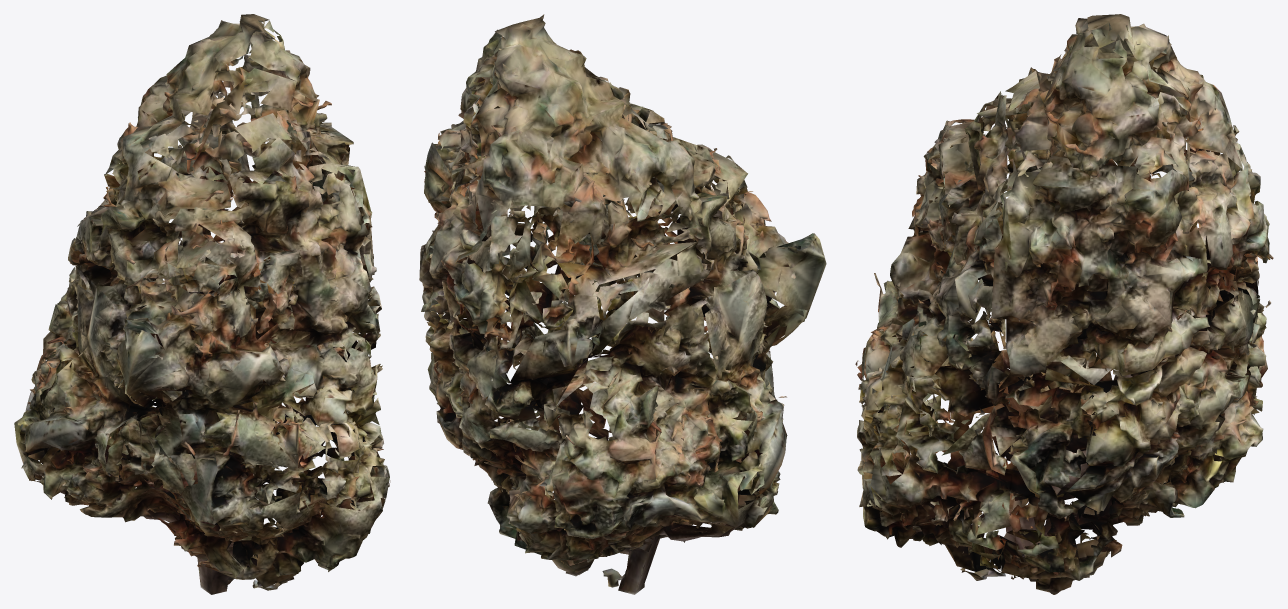
File: bud_lo.glb
3 views of the same model, side by side, from view 1: azimuth 30°, elevation 25°; view 2: azimuth 150°, elevation 25°; view 3: azimuth 270°, elevation 25° (orthographic). The views are drawn at different scales.
Parts seen in each view (by area): view 1: meshNode; view 2: meshNode; view 3: meshNode.
Boxes of the visible parts, bbox=[...] form: meshNode: bbox=[14, 14, 390, 594]; meshNode: bbox=[419, 14, 826, 594]; meshNode: bbox=[855, 14, 1273, 594].
Bounding box in the file's own units: 19.66 × 31.73 × 20.08.
Materials: 1 (1 with a texture image).
